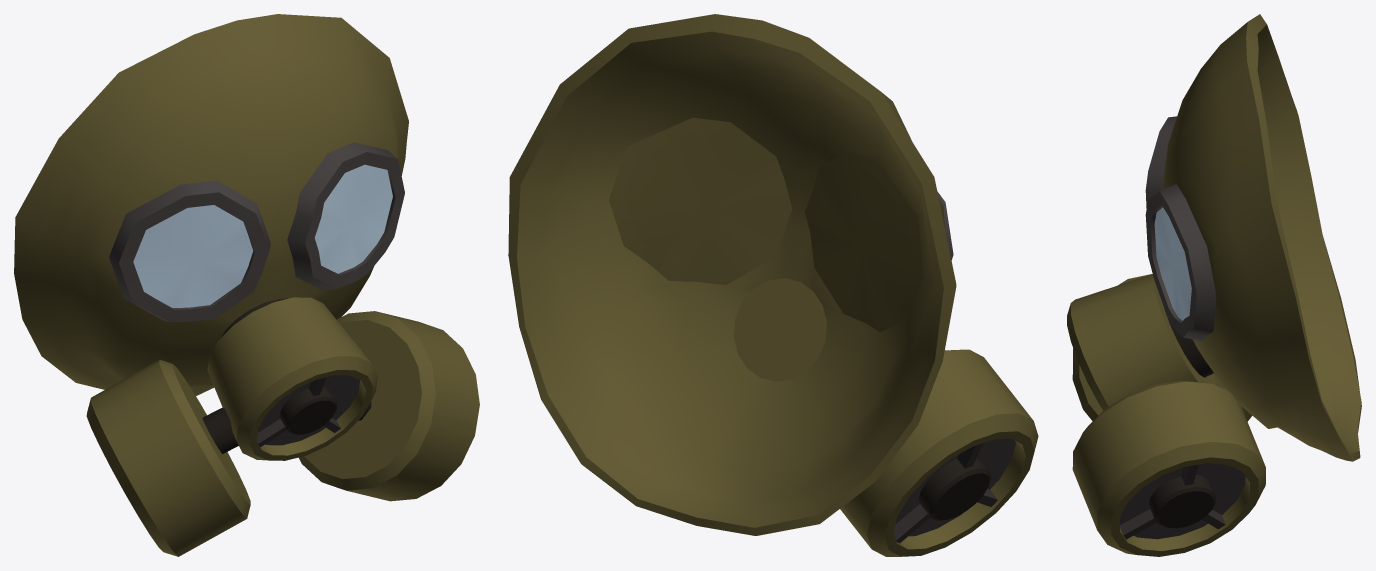
File: Mask_01_01.fbx
The picture shows the model from 3 angles, left to right: view 1: azimuth 30°, elevation 25°; view 2: azimuth 150°, elevation 25°; view 3: azimuth 270°, elevation 25°; orthographic projection. The views are drawn at different scales.
Parts seen in each view (by area): view 1: Mask_01_01; view 2: Mask_01_01; view 3: Mask_01_01.
Boxes of the visible parts, x1=… form: Mask_01_01: x1=14, y1=14, x2=479, y2=556; Mask_01_01: x1=508, y1=14, x2=1038, y2=556; Mask_01_01: x1=1067, y1=14, x2=1361, y2=556.
Bounding box in the file's own units: 31.91 × 36.57 × 20.93.
